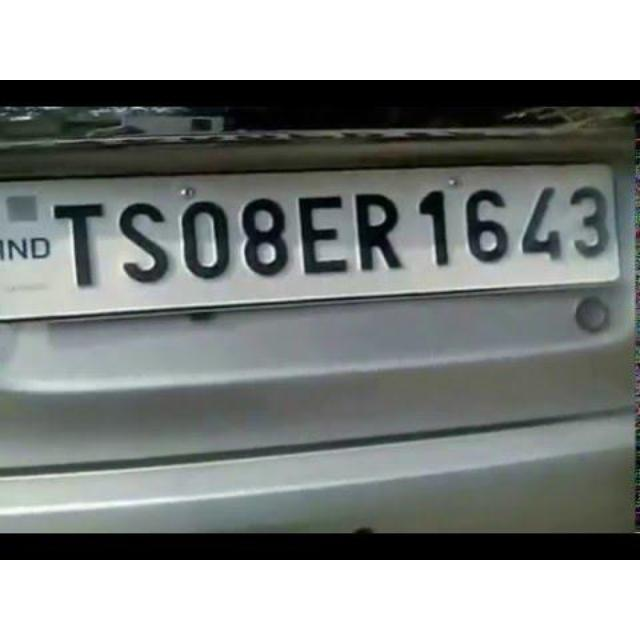plate: (1, 178, 618, 286)
